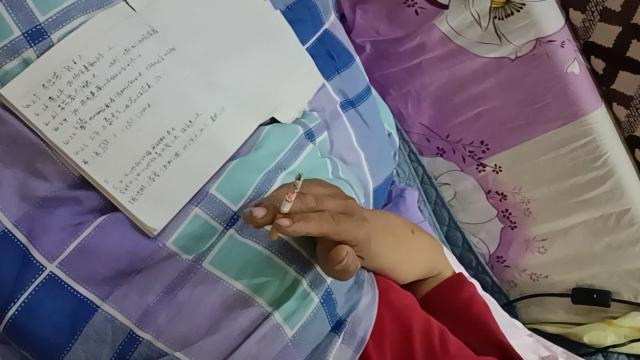Smoking: (270, 172, 304, 240)
